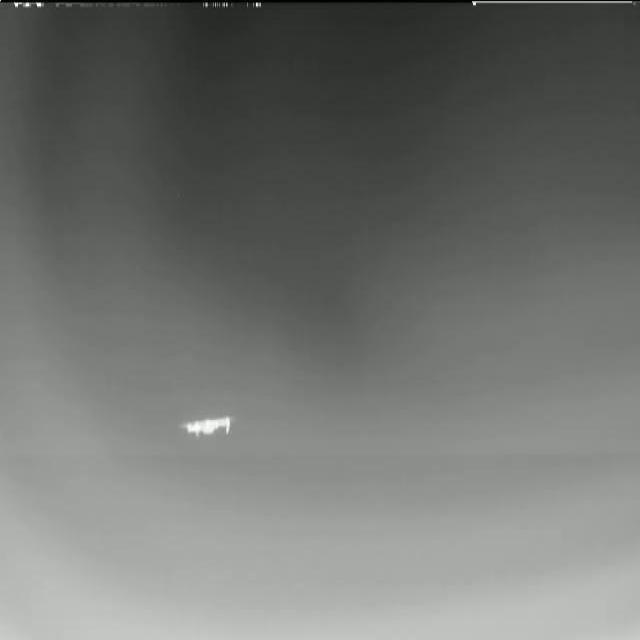DRONE: (168, 408, 242, 444)
